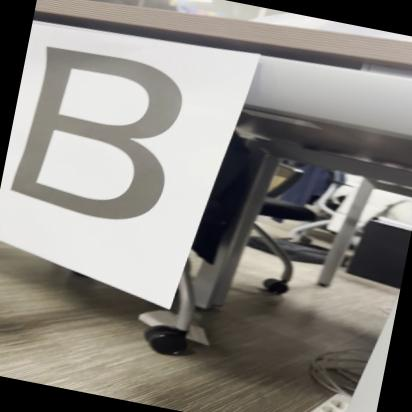seat: (0, 31, 207, 238)
